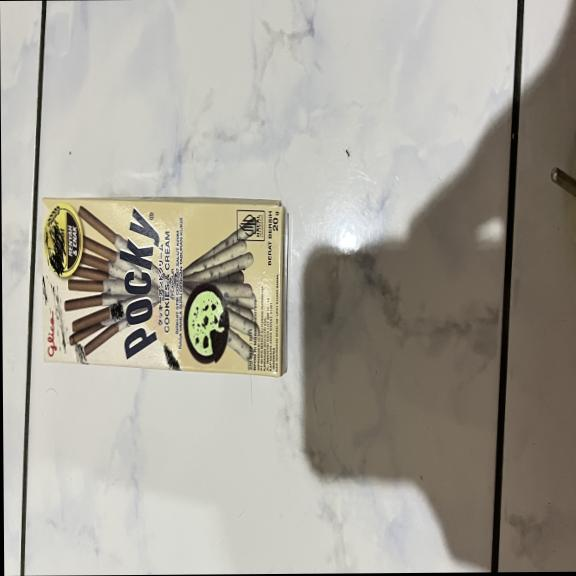Kertas: (38, 195, 287, 370)
